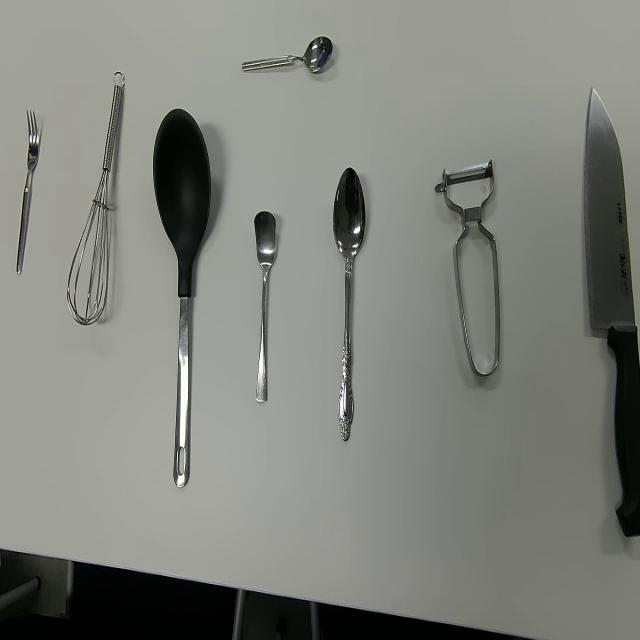Desert-Spoon: (333, 166, 367, 442)
Dinner-Fork: (15, 107, 40, 276)
Kitchen-Knife: (583, 85, 640, 540)
Peeler: (434, 156, 500, 378)
Serving-Spoon: (152, 107, 211, 490)
Tea-Spoon: (253, 208, 277, 405), (242, 35, 333, 76)
Whisk: (66, 70, 126, 326)
